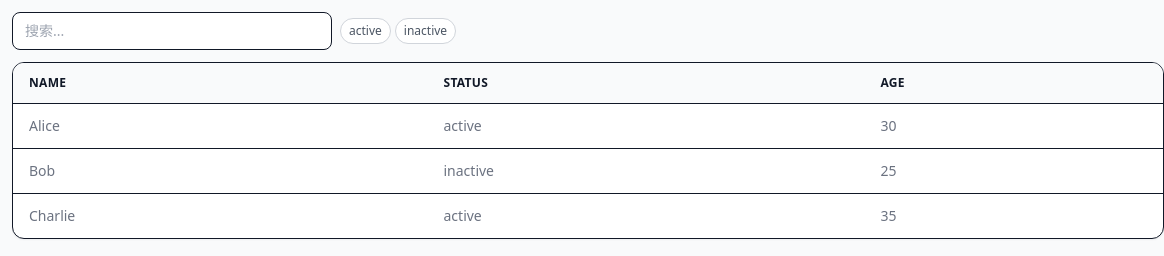
Test: DataTable › filters by search
Type "Ali" into the field with placeholder "搜索...".
click(172, 31); type("Ali")  # box [12,12,332,50]
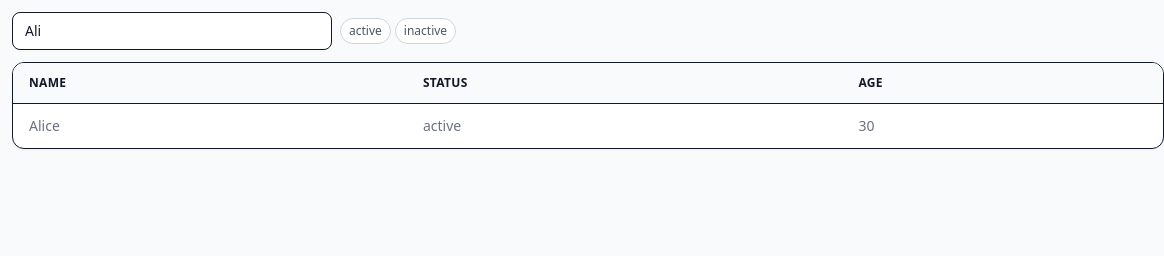
Expected: the text "Alice" is shown, [13,104,407,148]
Expected: the text "Bob" is gone
